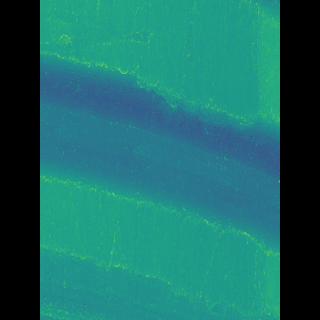Loch: (70, 48, 249, 261), (70, 244, 222, 320)
